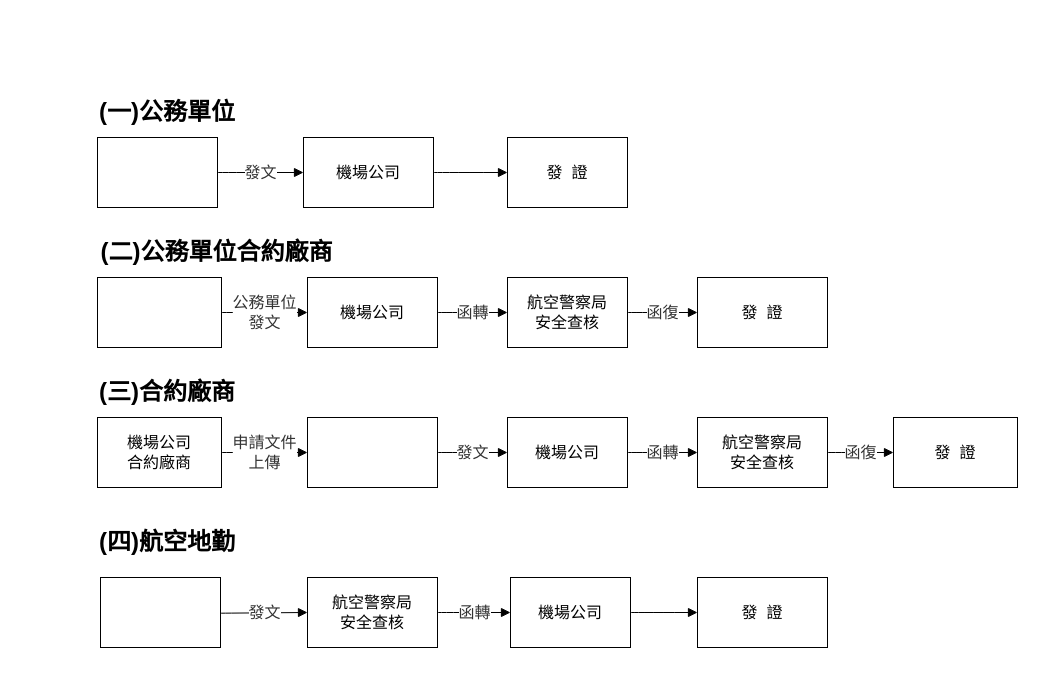
Image size: 1044x674. Some labels were removed from this diagram. Each missing label, with the centre of its shape:
"公務單位" belongs at [157,172].
"公務單位 合約廠商" belongs at [159,312].
"機場公司 (業管單位審核)" belongs at [372,452].
"航空地勤業" belongs at [160,612].
